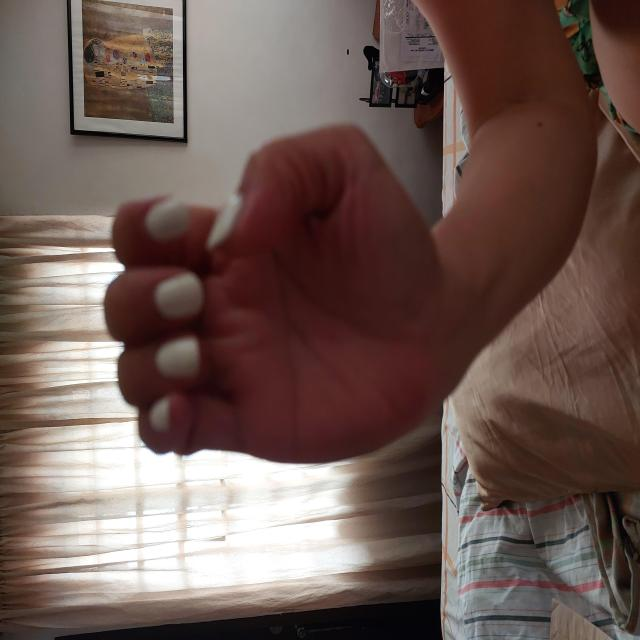E: (173, 100, 519, 445)
